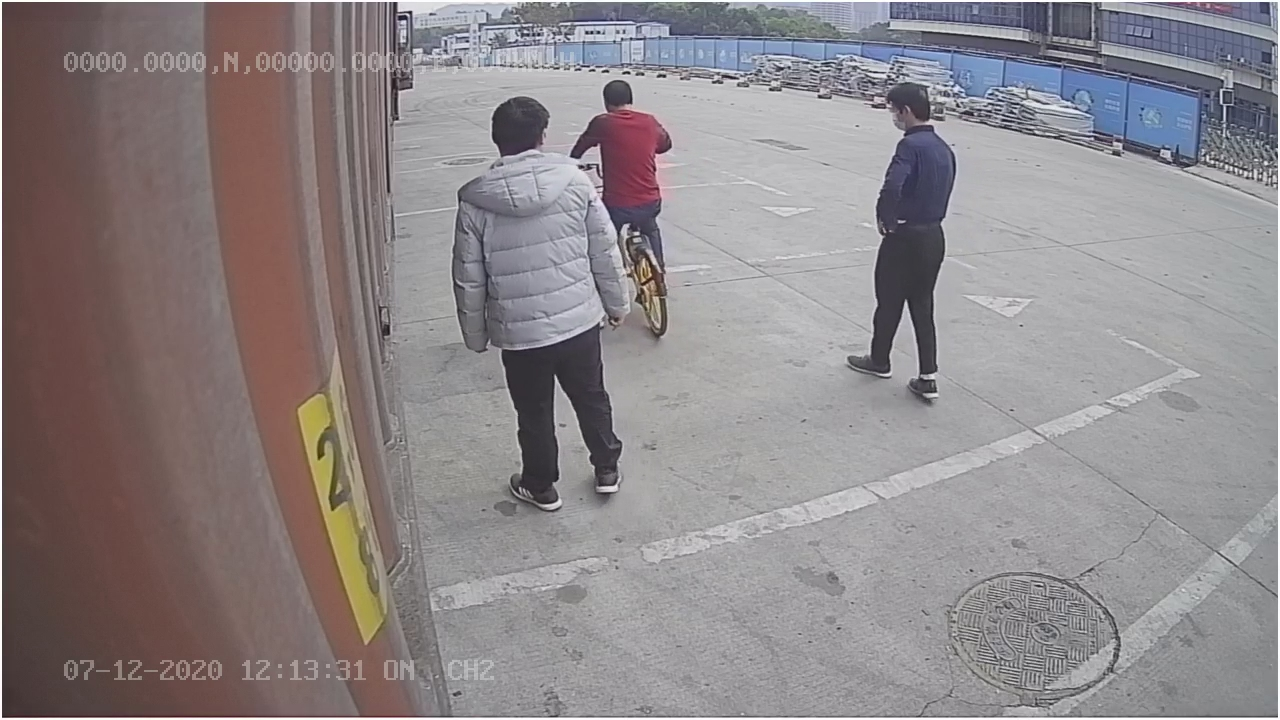person: (844, 84, 958, 402)
